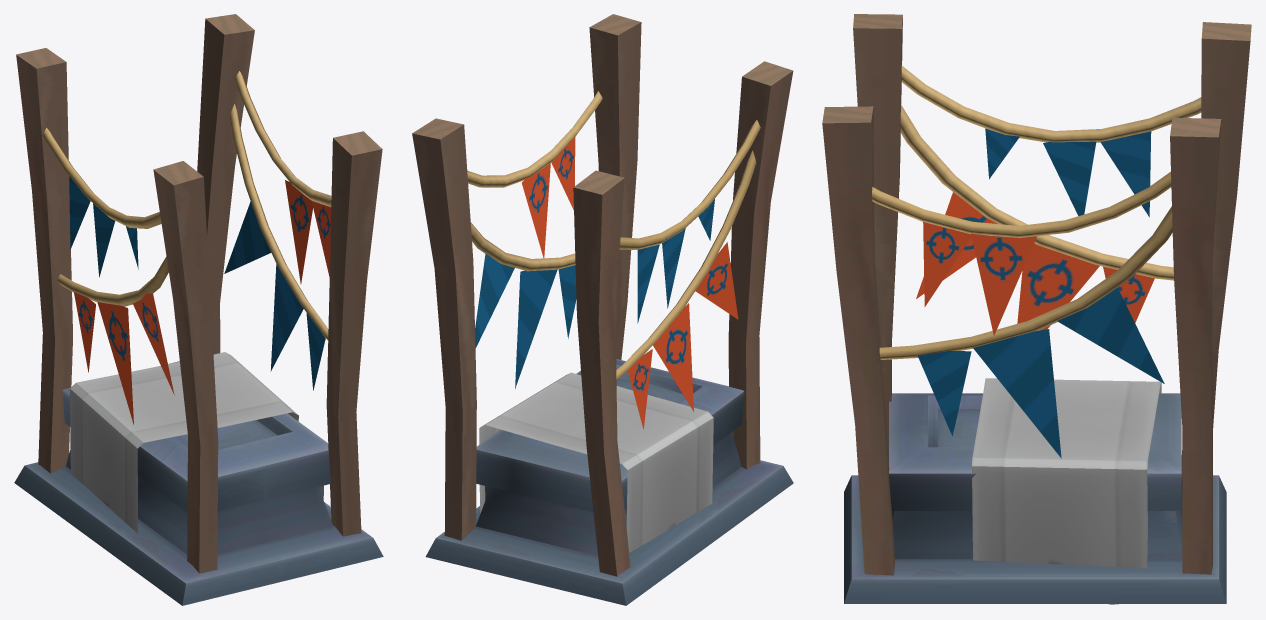
The model's file is Obstacle1B-001_02_14_3578.fbx.
3 renders of one model, left to right at view 1: azimuth 30°, elevation 25°; view 2: azimuth 150°, elevation 25°; view 3: azimuth 270°, elevation 25°, orthographic. The views are drawn at different scales.
Parts seen in each view (by area): view 1: Wood1.002 (2) (×2), Wood1.002 (1) (×2), CoffinBase, Plane_002 (1), CoffinCover, Rope2 (1) (×2), Flag1.001 (6) (×2), Rope2 (2) (×2), Flag1.001 (7) (×2), Flag1.001 (3) (×2), Flag1.001 (5) (×2), Flag1.001 (4) (×2); view 2: Wood1.002 (1) (×2), Wood1.002 (2) (×2), CoffinBase, Plane_002 (1), CoffinCover, Flag1.001 (6) (×2), Rope2 (1) (×2), Rope2 (2) (×2), Flag1.001 (7) (×2), Flag1.001 (3) (×2), Flag1.001 (5) (×2), Flag1.001 (4) (×2); view 3: Plane_002 (1), Wood1.002 (1) (×2), Wood1.002 (2) (×2), CoffinBase, CoffinCover, Flag1.001 (6) (×2), Rope2 (1) (×2), Rope2 (2) (×2), Flag1.001 (3) (×2), Flag1.001 (7) (×2), Flag1.001 (4) (×2), Flag1.001 (5) (×2) (+1 smaller).
Part boxes in pixels (<box>): Wood1.002 (2) (×2): <box>16,48,382,536</box>; Wood1.002 (1) (×2): <box>153,14,254,573</box>; CoffinBase: <box>14,450,383,605</box>; Plane_002 (1): <box>70,352,298,533</box>; CoffinCover: <box>62,361,330,512</box>; Rope2 (1) (×2): <box>56,104,328,340</box>; Flag1.001 (6) (×2): <box>97,264,303,424</box>; Rope2 (2) (×2): <box>42,71,331,228</box>; Flag1.001 (7) (×2): <box>133,201,271,395</box>; Flag1.001 (3) (×2): <box>93,180,312,284</box>; Flag1.001 (5) (×2): <box>74,292,325,390</box>; Flag1.001 (4) (×2): <box>69,176,331,276</box>; Wood1.002 (1) (×2): <box>412,61,793,540</box>; Wood1.002 (2) (×2): <box>573,14,641,576</box>; CoffinBase: <box>425,430,793,605</box>; Plane_002 (1): <box>479,372,713,552</box>; CoffinCover: <box>476,359,744,511</box>; Flag1.001 (6) (×2): <box>515,269,693,411</box>; Rope2 (1) (×2): <box>470,150,756,379</box>; Rope2 (2) (×2): <box>467,91,760,249</box>; Flag1.001 (7) (×2): <box>475,242,738,347</box>; Flag1.001 (3) (×2): <box>522,163,685,308</box>; Flag1.001 (5) (×2): <box>558,265,652,429</box>; Flag1.001 (4) (×2): <box>551,137,659,323</box>; Plane_002 (1): <box>972,378,1161,604</box>; Wood1.002 (1) (×2): <box>853,14,1221,574</box>; Wood1.002 (2) (×2): <box>822,22,1251,575</box>; CoffinBase: <box>844,475,1226,603</box>; CoffinCover: <box>888,393,1181,510</box>; Flag1.001 (6) (×2): <box>973,243,1099,458</box>; Rope2 (1) (×2): <box>879,104,1173,359</box>; Rope2 (2) (×2): <box>872,65,1201,237</box>; Flag1.001 (3) (×2): <box>971,141,1096,335</box>; Flag1.001 (7) (×2): <box>916,192,1164,383</box>; Flag1.001 (4) (×2): <box>923,131,1151,306</box>; Flag1.001 (5) (×2): <box>918,266,1154,436</box>.
Bounding box in the file's own units: 2.61 × 4.86 × 3.84.
